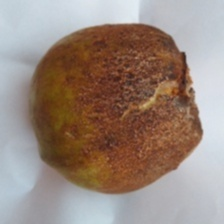guava: (16, 49, 197, 204)
